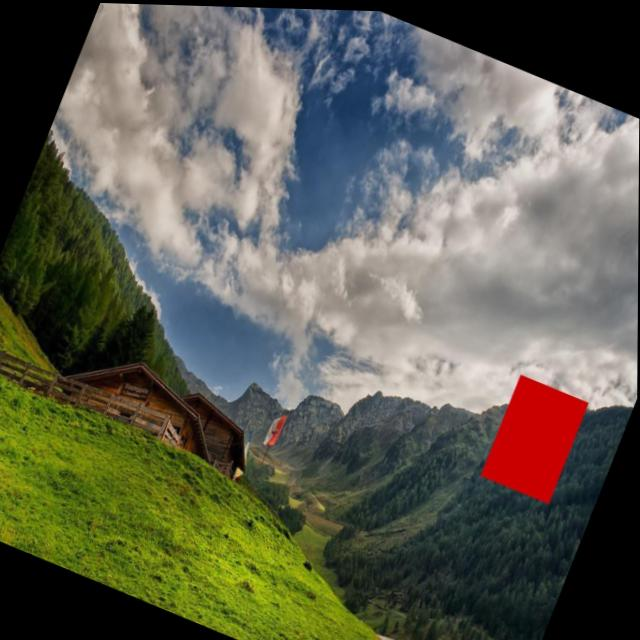RedSquare: (473, 361, 596, 510)
